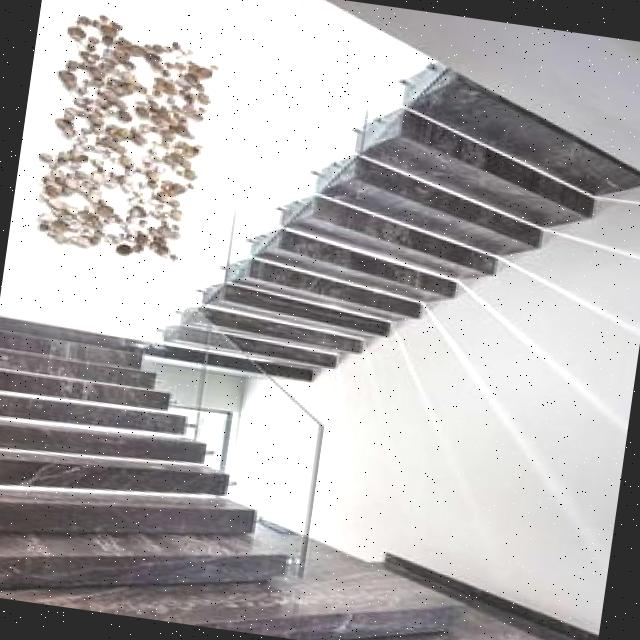stairs: (145, 24, 640, 426)
